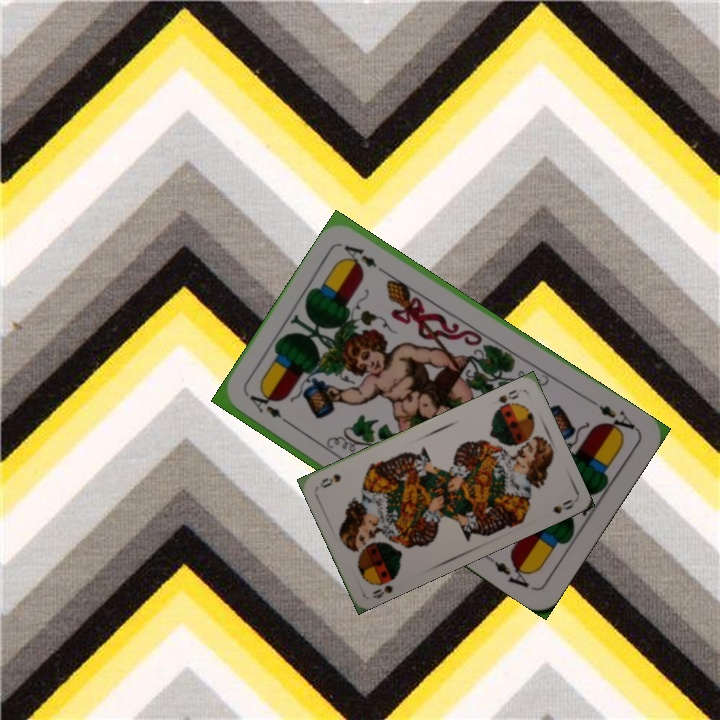EA: (245, 391, 295, 430), (594, 401, 639, 438)
SO: (369, 570, 400, 601), (491, 385, 522, 414)
